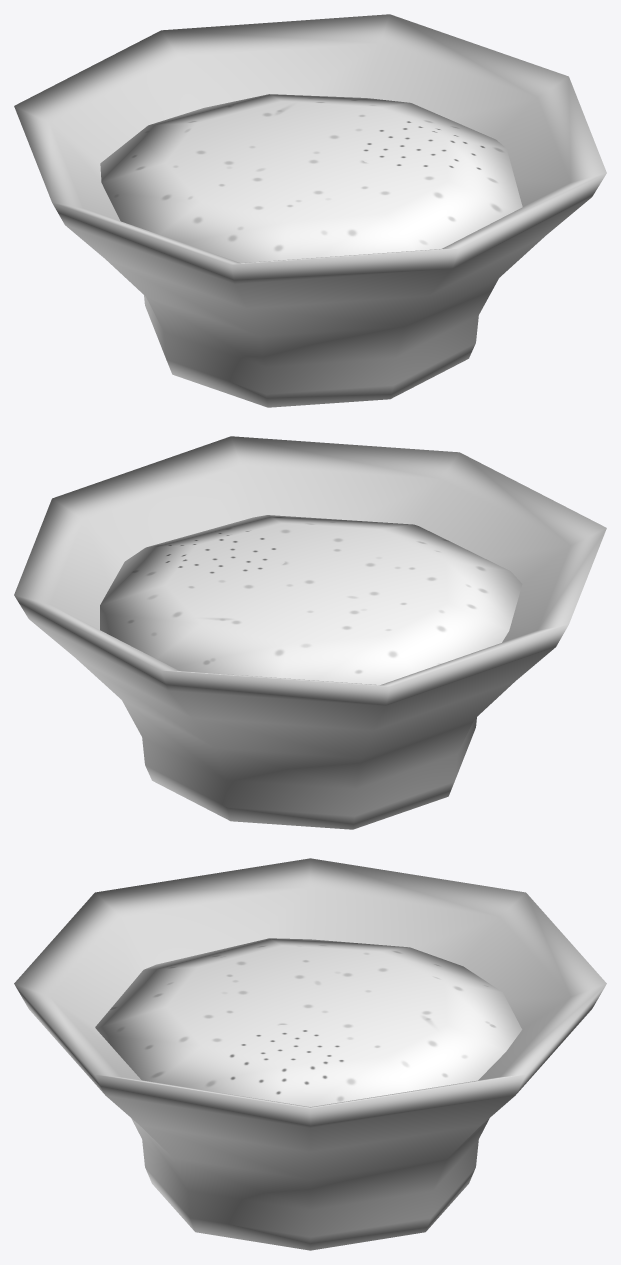
File: Sugar.fbx
3 views of the same model, one above another, from view 1: azimuth 30°, elevation 25°; view 2: azimuth 150°, elevation 25°; view 3: azimuth 270°, elevation 25° (orthographic).
Parts seen in each view (by area): view 1: SugarDish; view 2: SugarDish; view 3: SugarDish.
Part boxes in pixels (left/top/right/bottom): SugarDish: left=14, top=14, right=606, bottom=407; SugarDish: left=14, top=436, right=606, bottom=829; SugarDish: left=14, top=858, right=606, bottom=1250.
Bounding box in the file's own units: 21.49 × 21.49 × 8.39.
2 materials, 1 textured.
